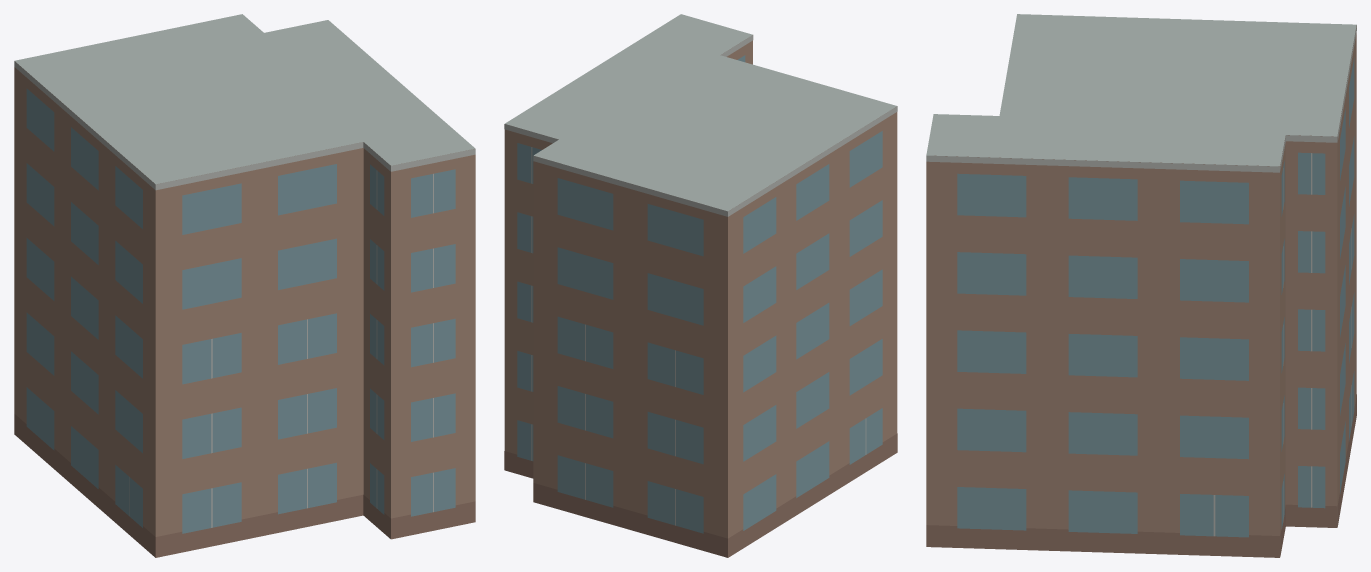
File: residential-2ec2fe19-9c82-46d3-9ee1-ccb2aacb8020.glb
3 renders of one model, left to right at view 1: azimuth 30°, elevation 25°; view 2: azimuth 150°, elevation 25°; view 3: azimuth 270°, elevation 25°, orthographic. The views are drawn at different scales.
Visible parts, largest first — view 1: residential-2ec2fe19-9c82-46d3-9ee1-ccb2aacb8020.tmp; view 2: residential-2ec2fe19-9c82-46d3-9ee1-ccb2aacb8020.tmp; view 3: residential-2ec2fe19-9c82-46d3-9ee1-ccb2aacb8020.tmp.
Boxes of the visible parts, box(x1,y1,x2,y2) form: residential-2ec2fe19-9c82-46d3-9ee1-ccb2aacb8020.tmp: box(14, 14, 475, 557); residential-2ec2fe19-9c82-46d3-9ee1-ccb2aacb8020.tmp: box(504, 14, 897, 557); residential-2ec2fe19-9c82-46d3-9ee1-ccb2aacb8020.tmp: box(926, 14, 1356, 557).
Size of the model in its own units: 12.75 by 15.25 by 15.21.
